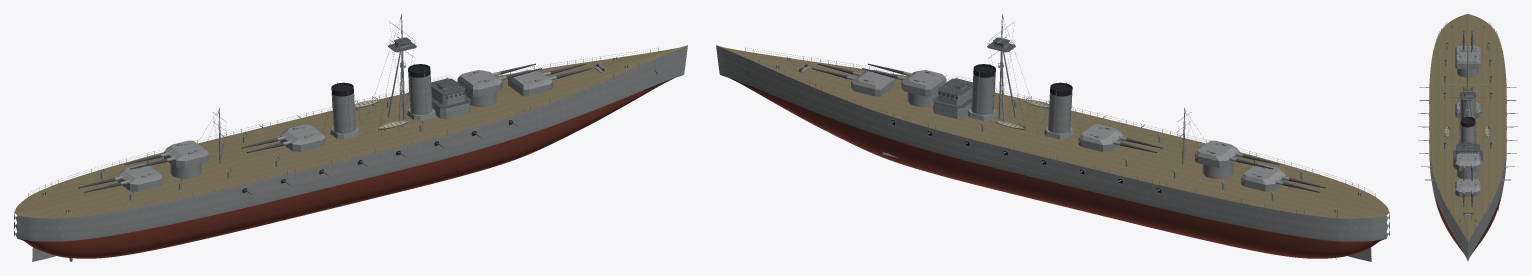
File: orion.glb
3 views of the same model, side by side, from view 1: azimuth 30°, elevation 25°; view 2: azimuth 150°, elevation 25°; view 3: azimuth 270°, elevation 25° (orthographic). The views are drawn at different scales.
Visible parts, largest first — view 1: Orion class; view 2: Orion class; view 3: Orion class.
Part boxes in pixels (box(x1,y1,x2,y2)): Orion class: box(14, 14, 687, 261); Orion class: box(716, 14, 1389, 261); Orion class: box(1418, 14, 1517, 261).
Size of the model in its own units: 185 by 42.23 by 33.66.
9 materials, 8 textured.
